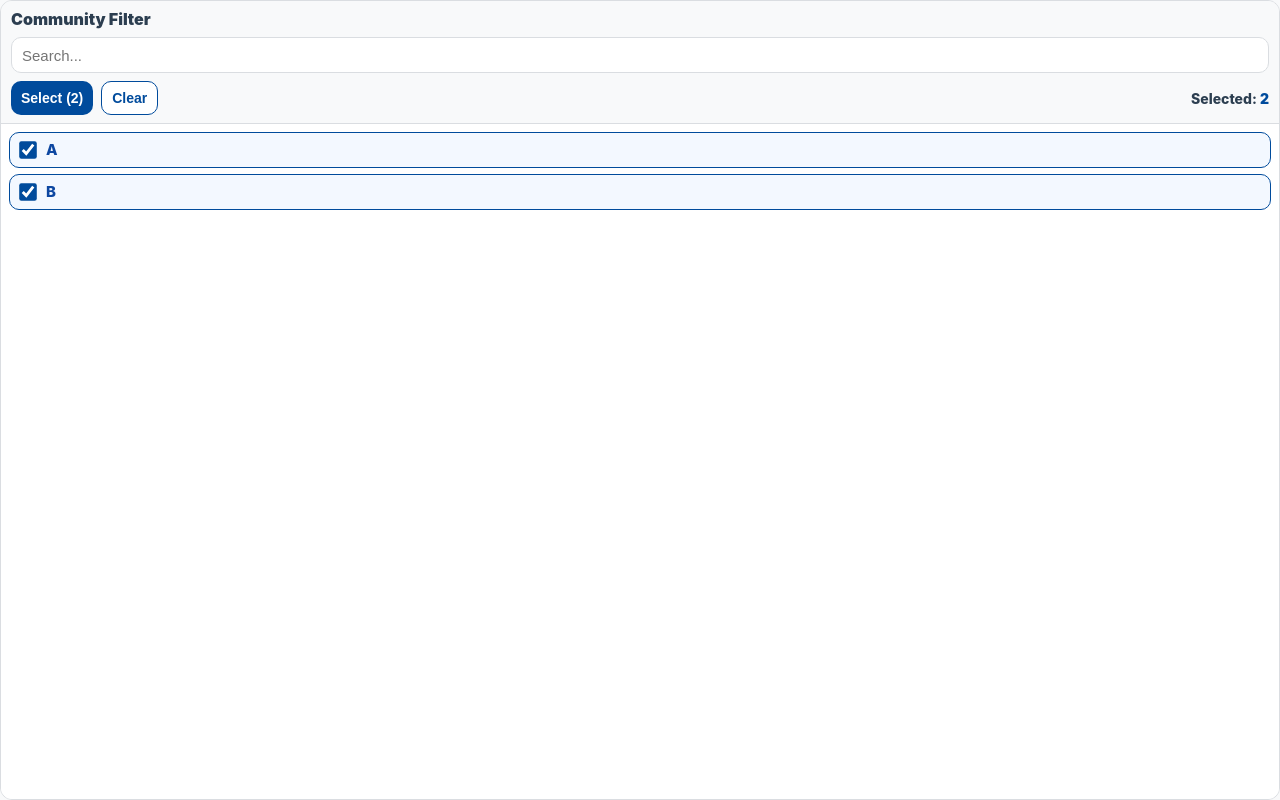
Scenario: CommunityFilter › Clear button clears selection
The image size is (1280, 800).
Check: the element named "Selected count 2" is shown, box [1191, 90, 1269, 106]
What coordinates should you click on to do the following:
click the button with aria-label "Clear selected communities"
I would click on:
 (130, 98)
Its box is [101, 81, 158, 115].
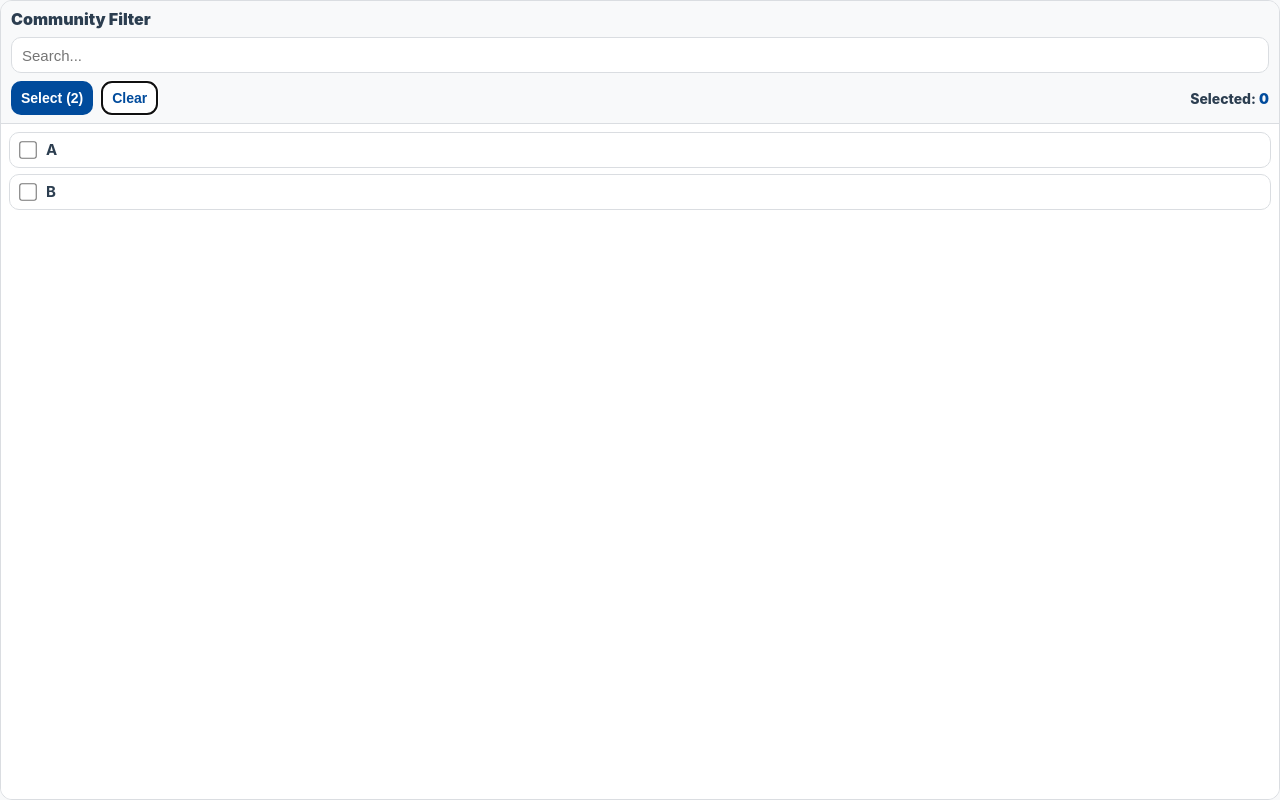
Check: the element named "Selected count 0" is shown, box [1190, 90, 1269, 106]
Check: the checkbox labelled "A" is not checked, box [19, 141, 37, 159]
Check: the checkbox labelled "B" is not checked, box [19, 183, 37, 201]
